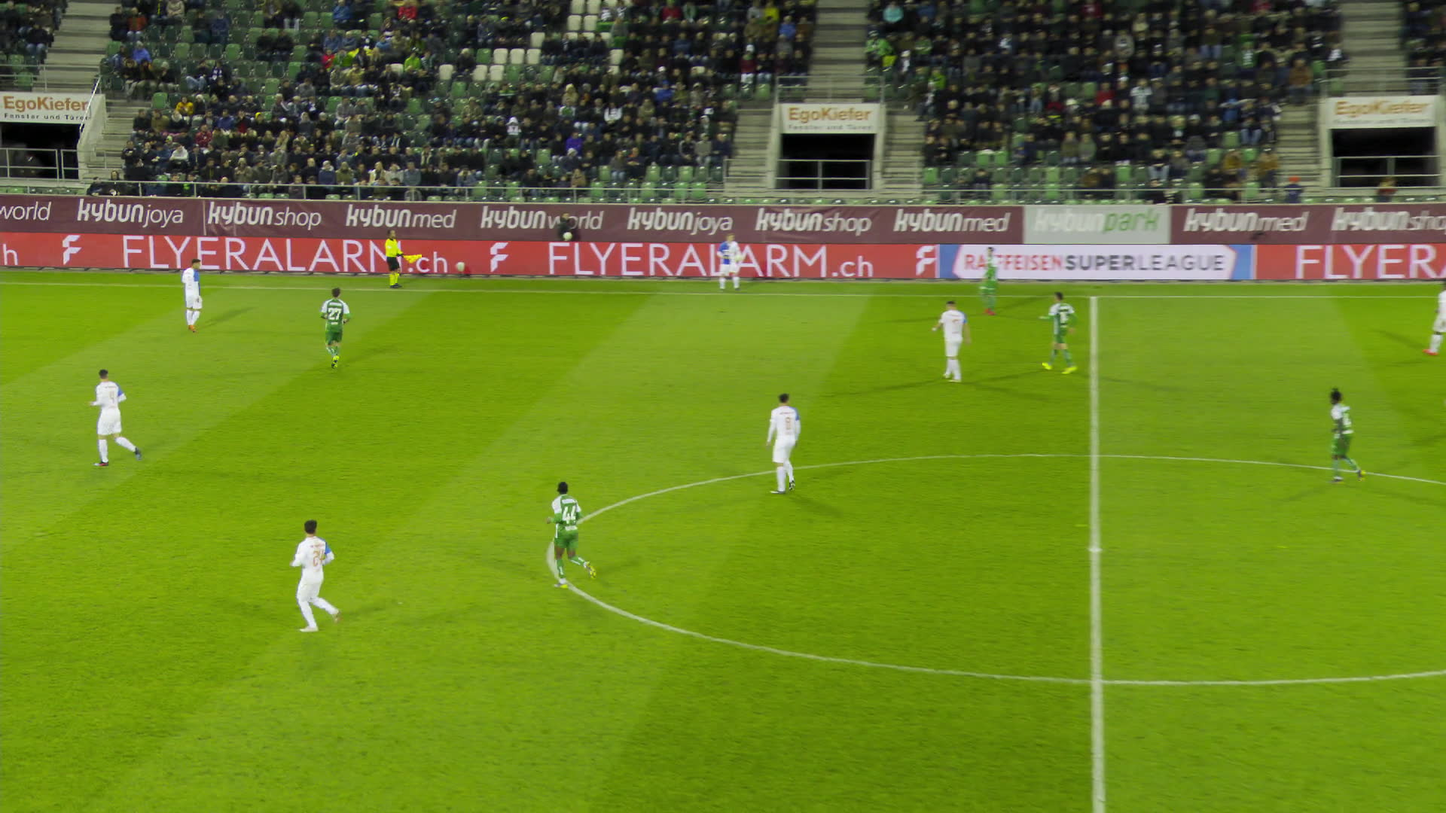player: (288, 516, 342, 630), (88, 368, 140, 468), (545, 479, 591, 587), (1315, 388, 1362, 484), (759, 392, 799, 493), (924, 301, 959, 383), (1035, 294, 1070, 372), (313, 285, 343, 369), (1422, 280, 1445, 355), (178, 260, 201, 330), (705, 236, 731, 293), (978, 247, 997, 314)
referee: (377, 230, 403, 289), (1432, 340, 1445, 431)
